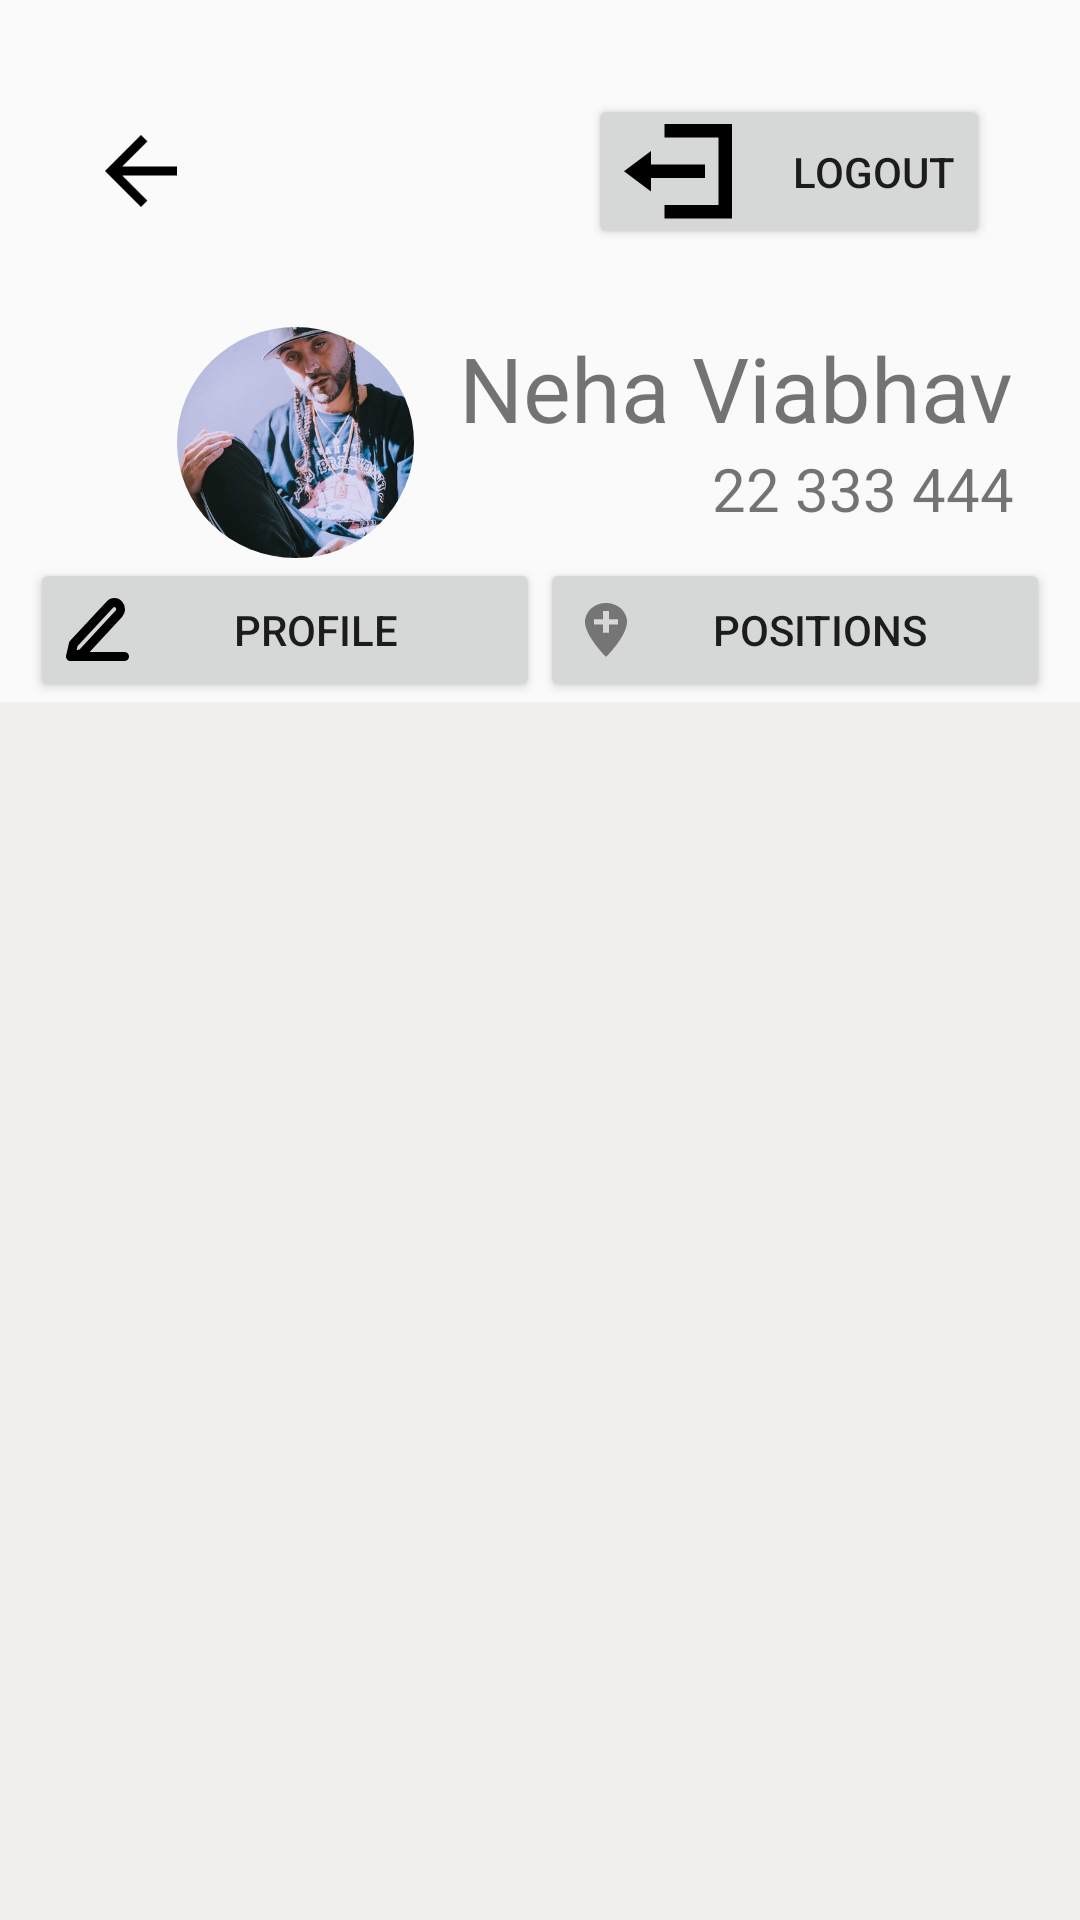

Screen size 1080w x 1920h. Icon name, then its box in pixels as Rect(x1, y1, x2, y2):
arrow back: Rect(105, 135, 177, 207)
